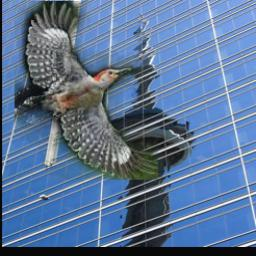Woodpecker: (15, 1, 158, 180)
